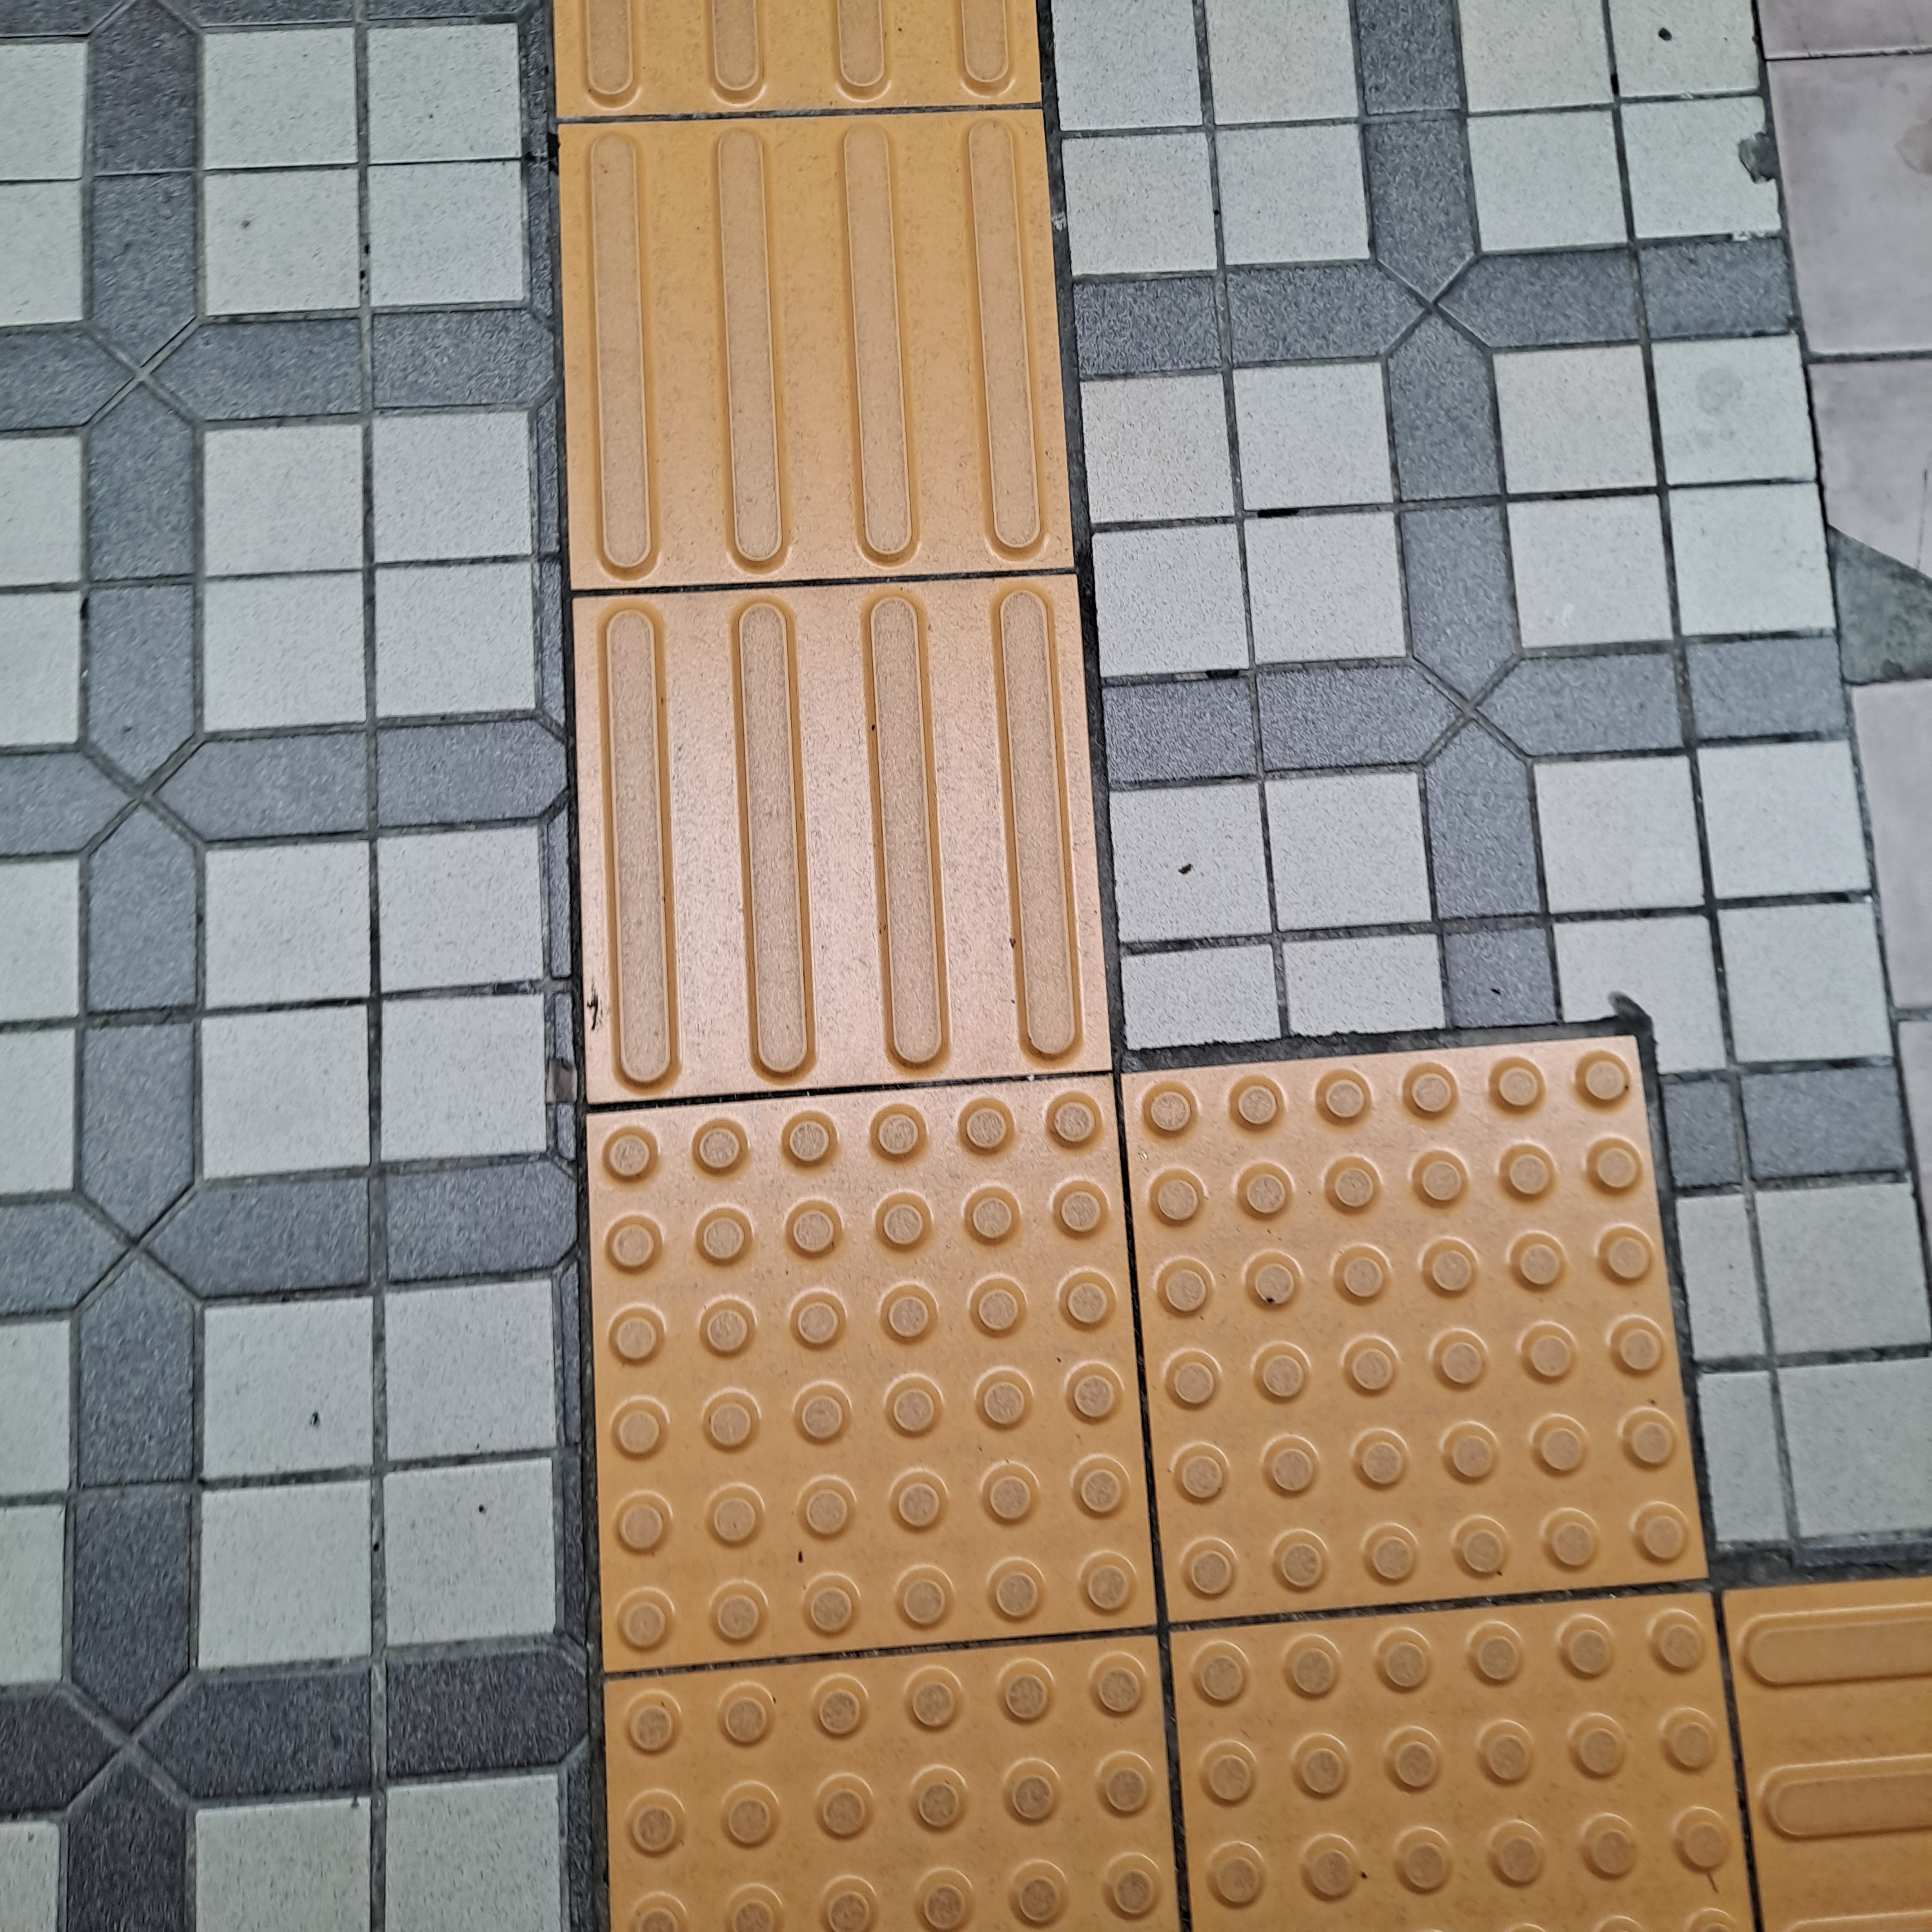guideBlock: (591, 561, 1100, 1083), (529, 87, 1051, 577)
warningBlock: (1157, 1042, 1691, 1679), (587, 1097, 1169, 1606), (1215, 1599, 1743, 1932), (605, 1660, 1215, 1932)
